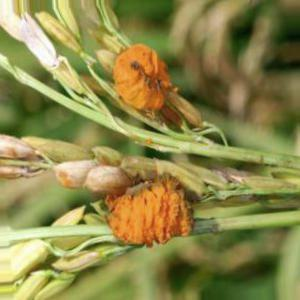Leaf_Scald: (107, 179, 190, 246), (117, 53, 172, 112)
